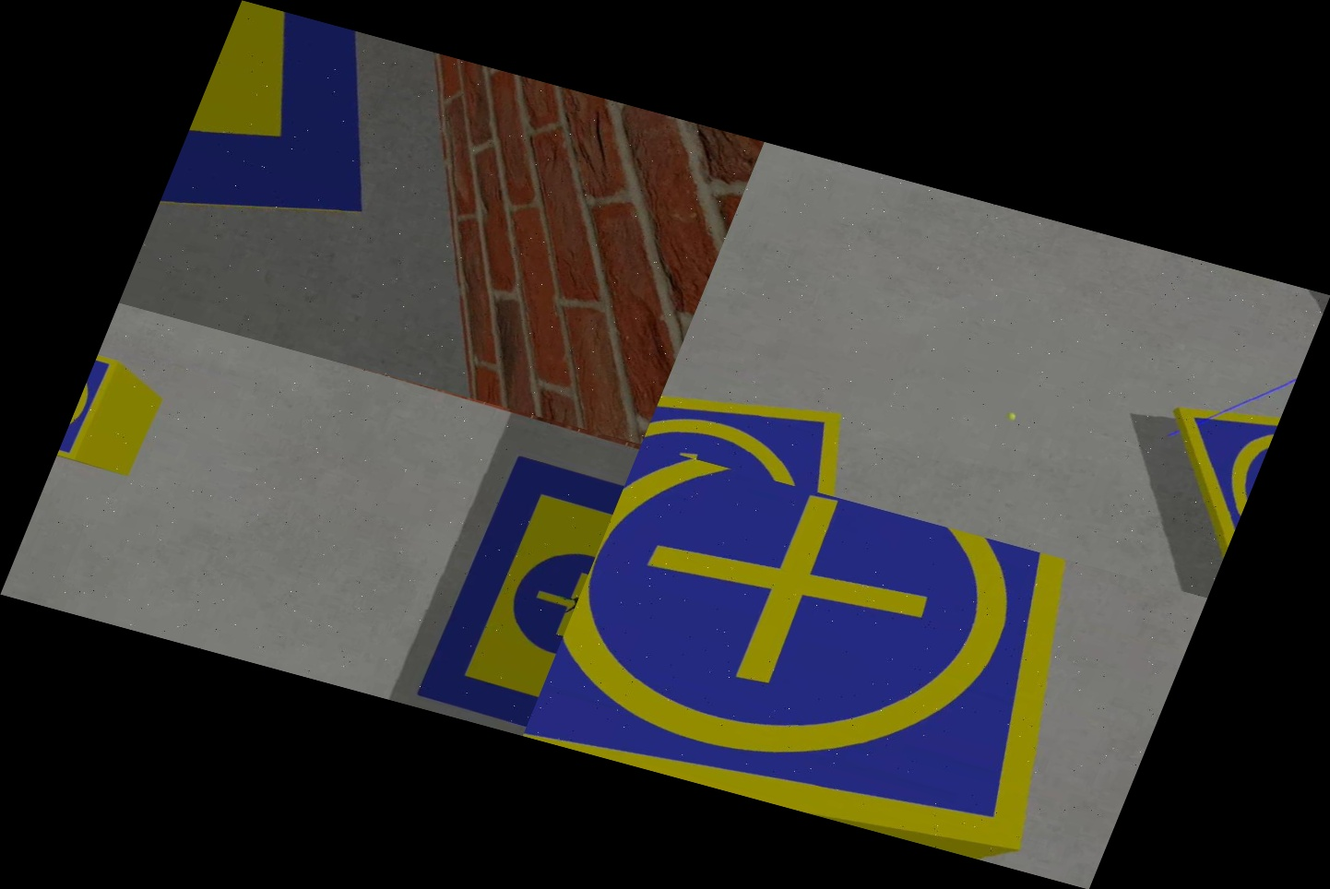large_base: (128, 0, 434, 330), (412, 451, 626, 729)
small_base: (523, 444, 1146, 872), (1103, 370, 1288, 598), (641, 363, 902, 506)
